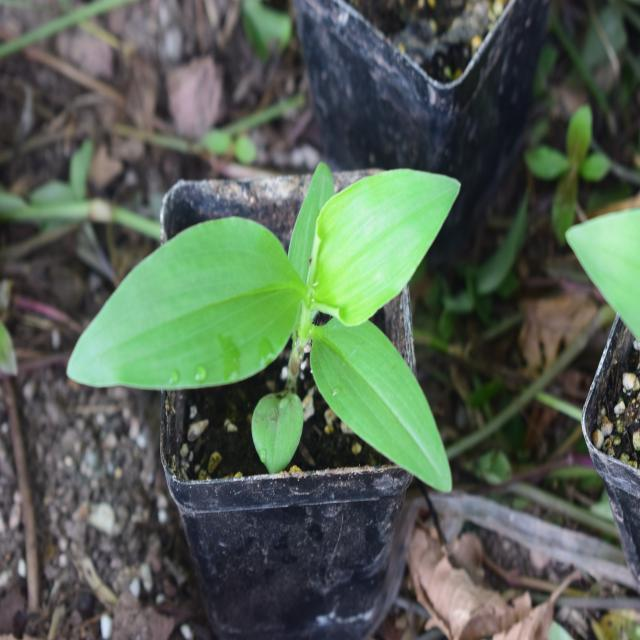Common Dayflower: (70, 150, 477, 493)
